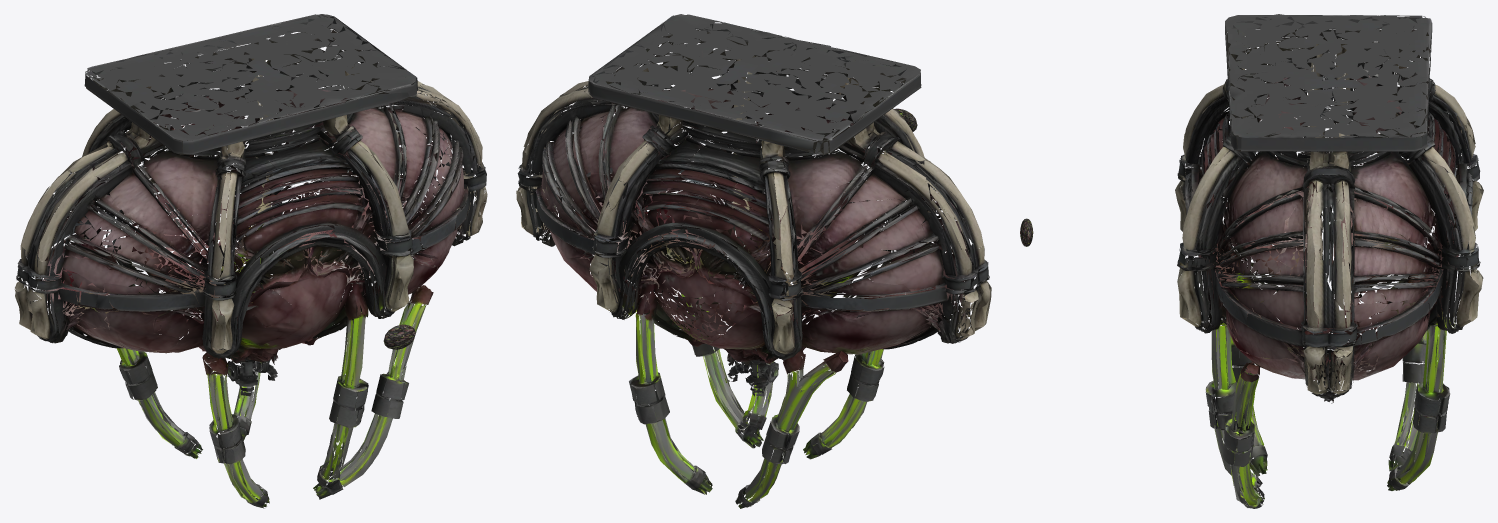
File: hazard_source_spore_pressure_gland.glb
3 renders of one model, left to right at view 1: azimuth 30°, elevation 25°; view 2: azimuth 150°, elevation 25°; view 3: azimuth 270°, elevation 25°, orthographic. The views are drawn at different scales.
Parts seen in each view (by area): view 1: node_0, HB_PULSE_00; view 2: node_0; view 3: node_0.
Part boxes in pixels (left/top/right/bottom): node_0: left=14, top=14, right=487, bottom=508; HB_PULSE_00: left=383, top=324, right=415, bottom=349; node_0: left=516, top=14, right=991, bottom=508; node_0: left=1175, top=14, right=1483, bottom=508.
Size of the model in its own units: 1.14 by 0.9621 by 0.9736.
Materials: 1 (1 with a texture image).
